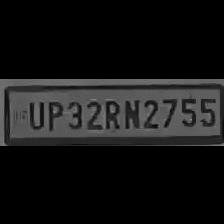2: (140, 94, 160, 130), (84, 96, 103, 128)
3: (63, 97, 83, 128)
5: (197, 93, 217, 127), (177, 93, 197, 126)
7: (158, 94, 176, 128)
N: (120, 95, 140, 129)
P: (44, 97, 64, 129)
R: (100, 96, 120, 130)
U: (24, 97, 46, 128)
